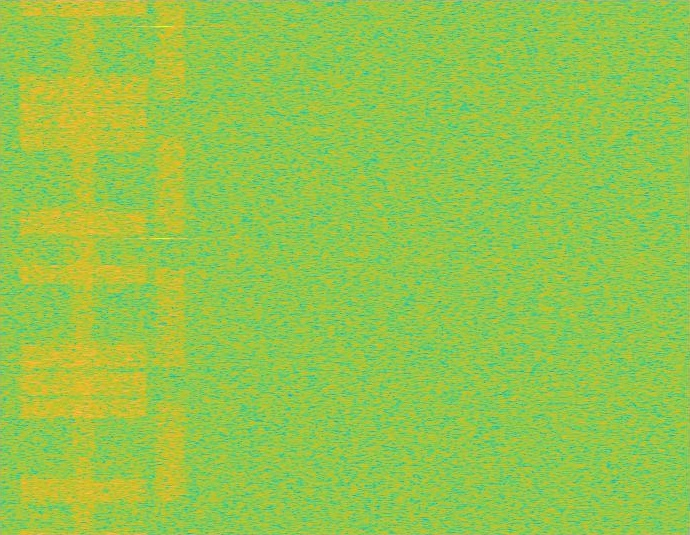5G: (153, 0, 188, 534)
DSSS: (68, 0, 99, 534)
LTE: (15, 0, 153, 534)
Radar: (156, 0, 170, 534)
